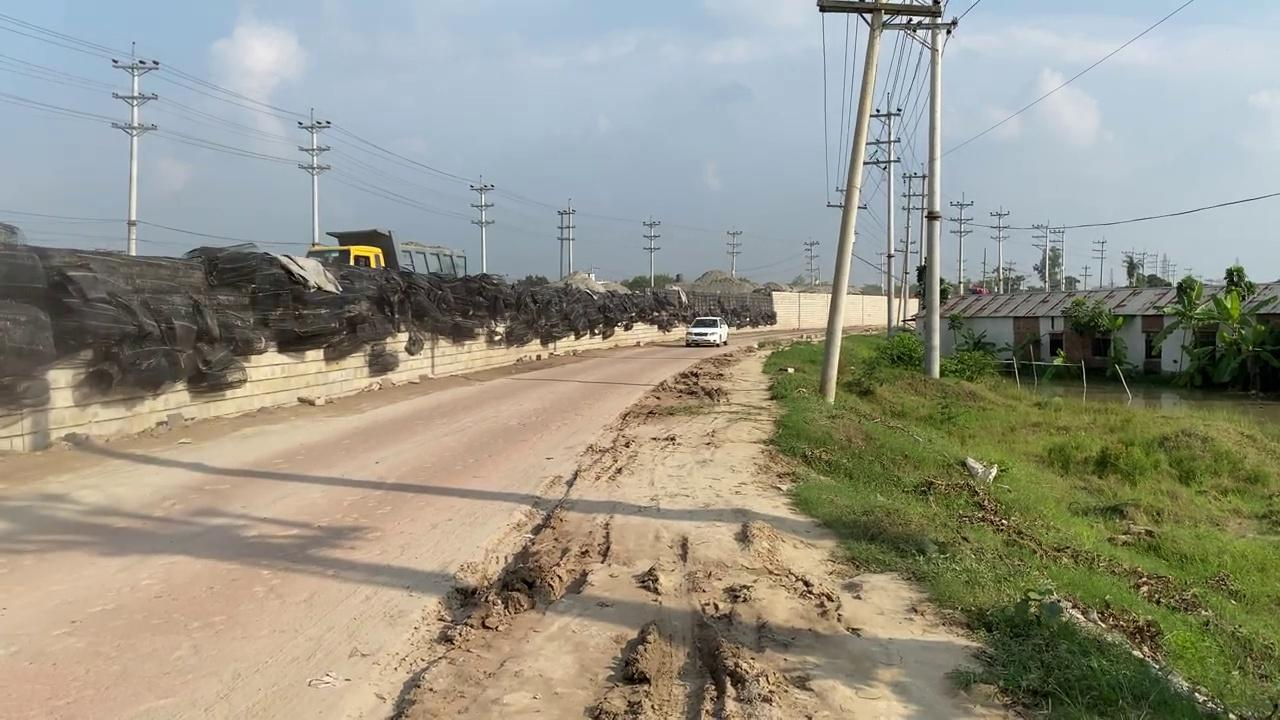Car: (684, 315, 729, 347)
Garbage: (0, 227, 775, 409)
Pole: (816, 0, 944, 404), (922, 6, 944, 379)
Traffic-sign: (1150, 260, 1278, 395)
Tree: (304, 228, 468, 278)
